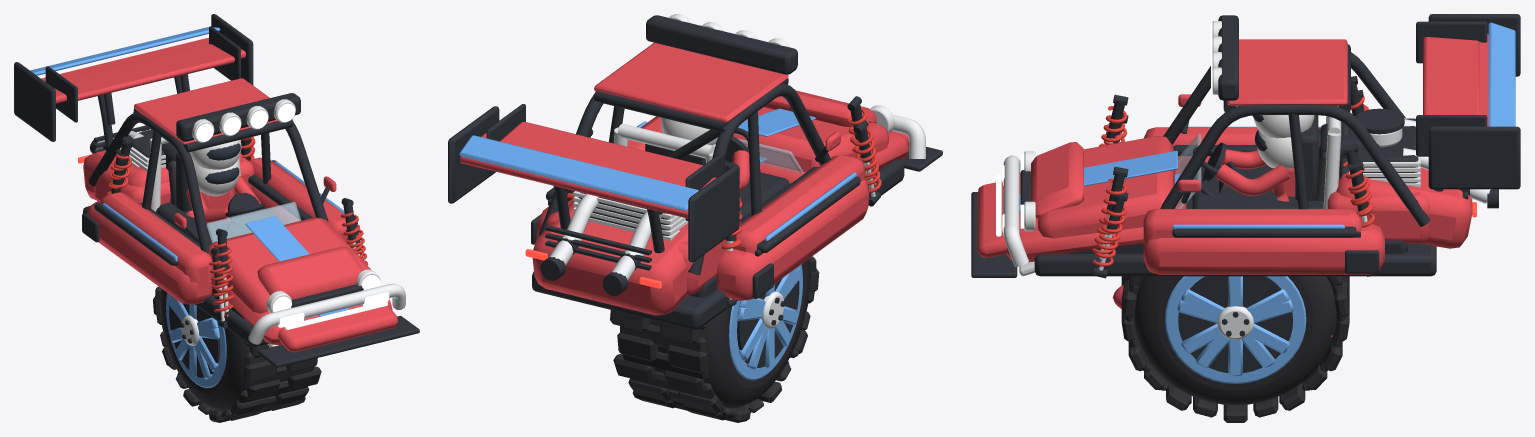
Rendered from cars.glb.
3 renders of one model, left to right at view 1: azimuth 30°, elevation 25°; view 2: azimuth 150°, elevation 25°; view 3: azimuth 270°, elevation 25°, orthographic. The views are drawn at different scales.
Visible parts, largest first — view 1: buggy_classic, buggy_sports, wheel_big, wheel_std; view 2: buggy_classic, buggy_sports, wheel_big, wheel_std; view 3: buggy_classic, buggy_sports, wheel_big, wheel_std.
Boxes of the visible parts, bbox=[...] form: buggy_classic: bbox=[45, 26, 405, 347]; buggy_sports: bbox=[14, 14, 419, 367]; wheel_big: bbox=[153, 288, 321, 422]; wheel_std: bbox=[155, 286, 313, 419]; buggy_classic: bbox=[486, 14, 925, 298]; buggy_sports: bbox=[448, 106, 942, 329]; wheel_big: bbox=[610, 259, 819, 422]; wheel_std: bbox=[620, 256, 816, 418]; buggy_classic: bbox=[1003, 15, 1487, 276]; buggy_sports: bbox=[971, 14, 1520, 278]; wheel_big: bbox=[1121, 276, 1349, 422]; wheel_std: bbox=[1125, 276, 1345, 410].
Bounding box in the file's own units: 2.38 × 3.41 × 4.78.
